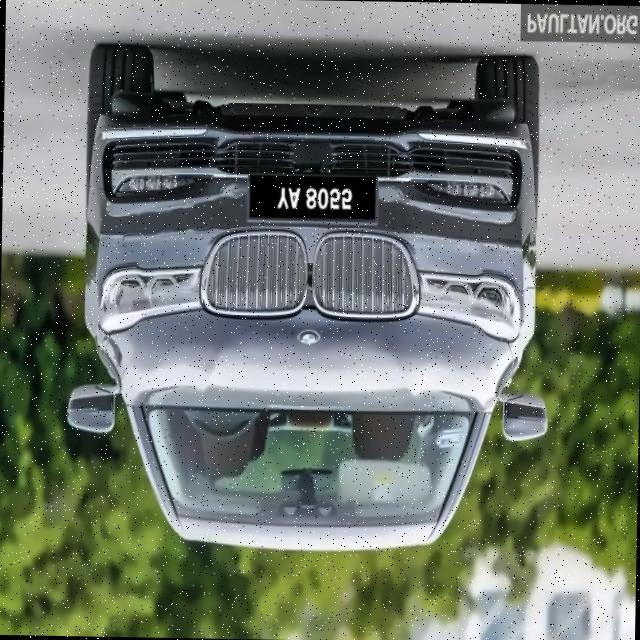License_Plate: (250, 172, 379, 224)
car: (56, 46, 561, 553)
